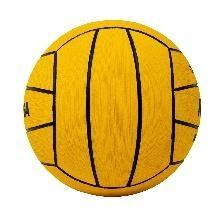Sports-Ball: (23, 19, 207, 198)
